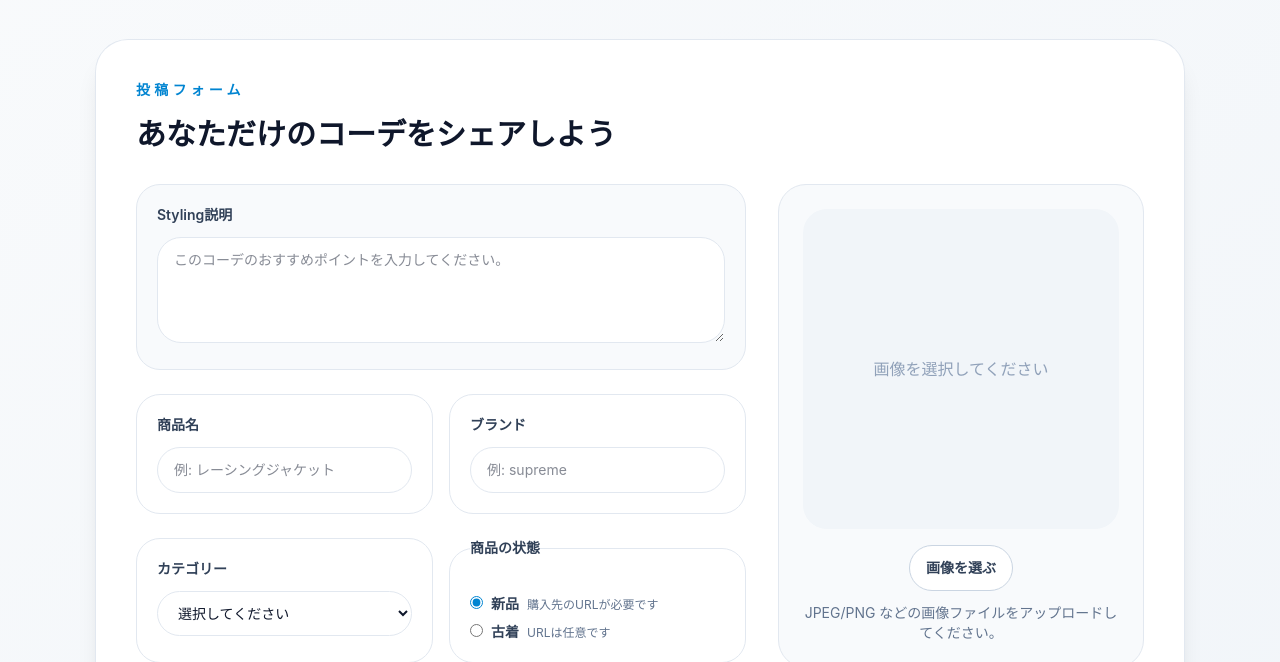
Test: ItemUpload の商品追加 › カテゴリーを選ばないと追加できない
This screenshot has width=1280, height=662.
Step 1. Type "シャツ" into the field labelled "商品名" → (284, 470), box [157,447,412,493]
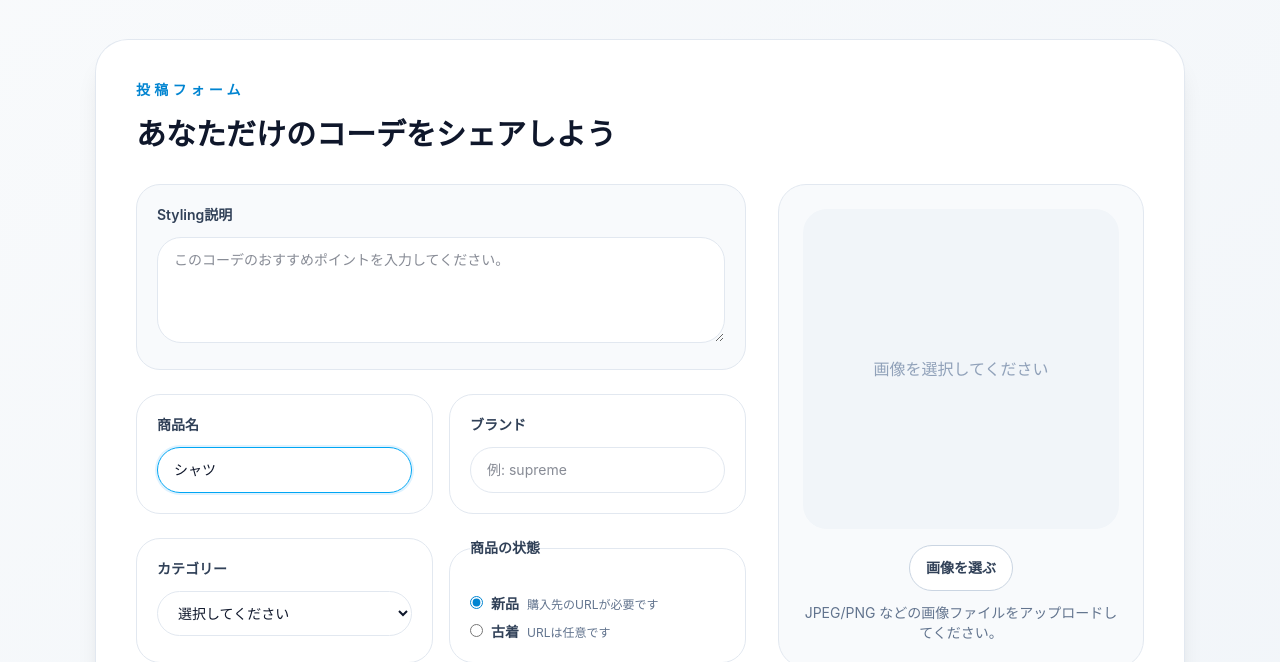
Step 2. Type "MyBrand" into the field labelled "ブランド" → (598, 470), box [470,447,725,493]
(page scrolled)
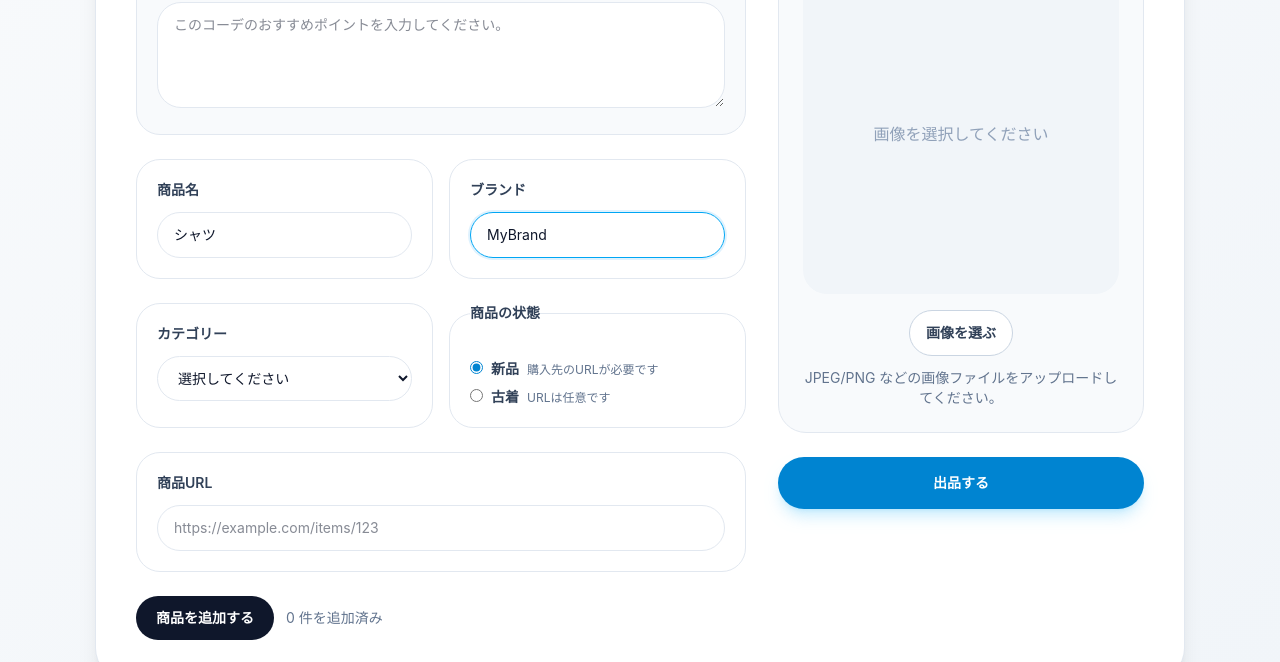
Step 3. Type "https://example.com/1" into the field labelled "商品URL" → (441, 528), box [157,505,725,551]
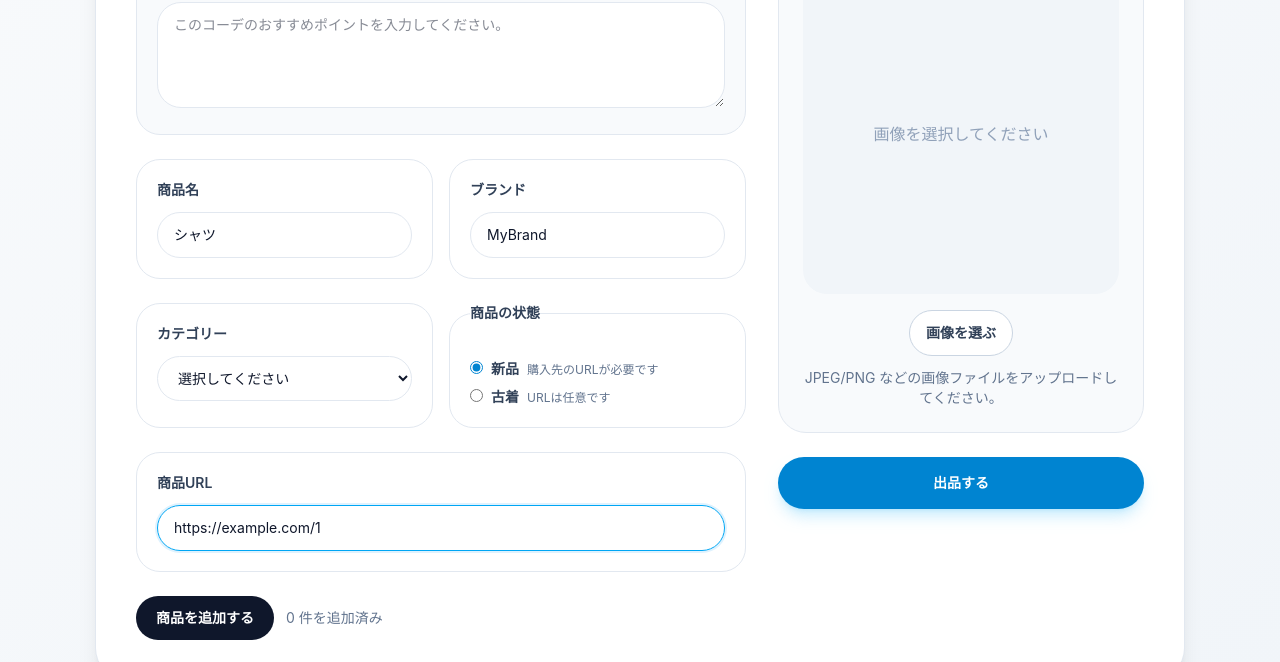
Step 4. Click the button "商品を追加する" → (205, 618), box [136,596,274,640]
(page scrolled)
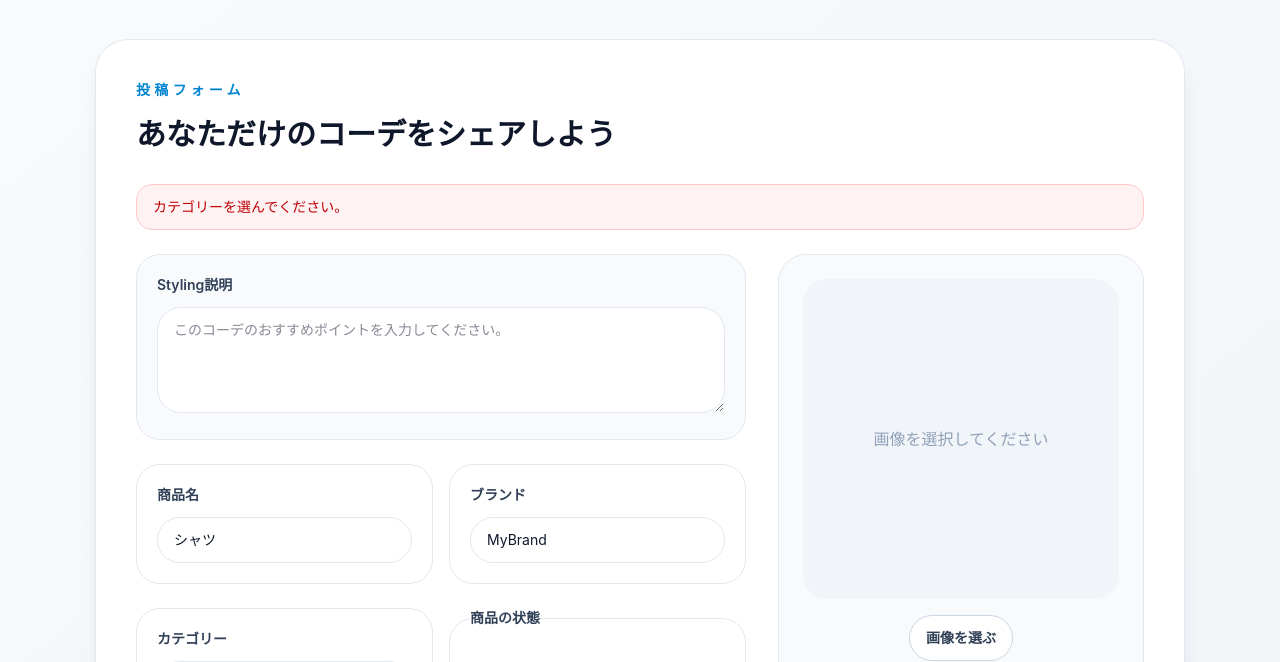
Expected: the text "カテゴリーを選んでください。" is shown, [136,184,1144,230]
